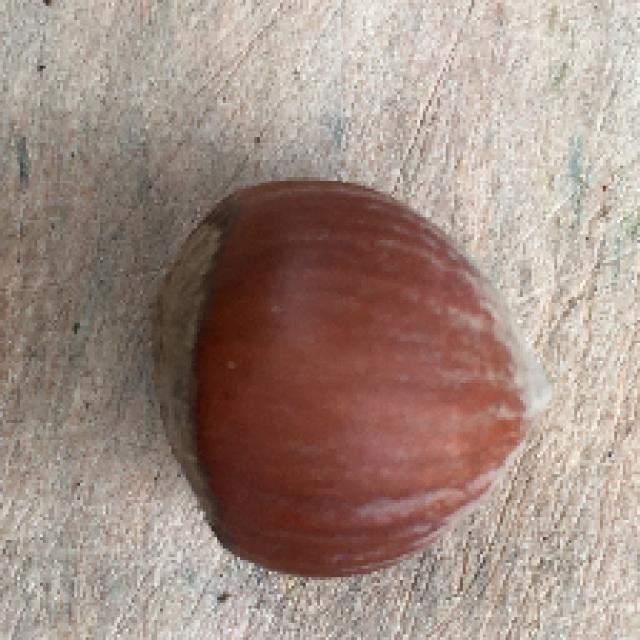qualityHazelnut: (136, 161, 535, 589)
